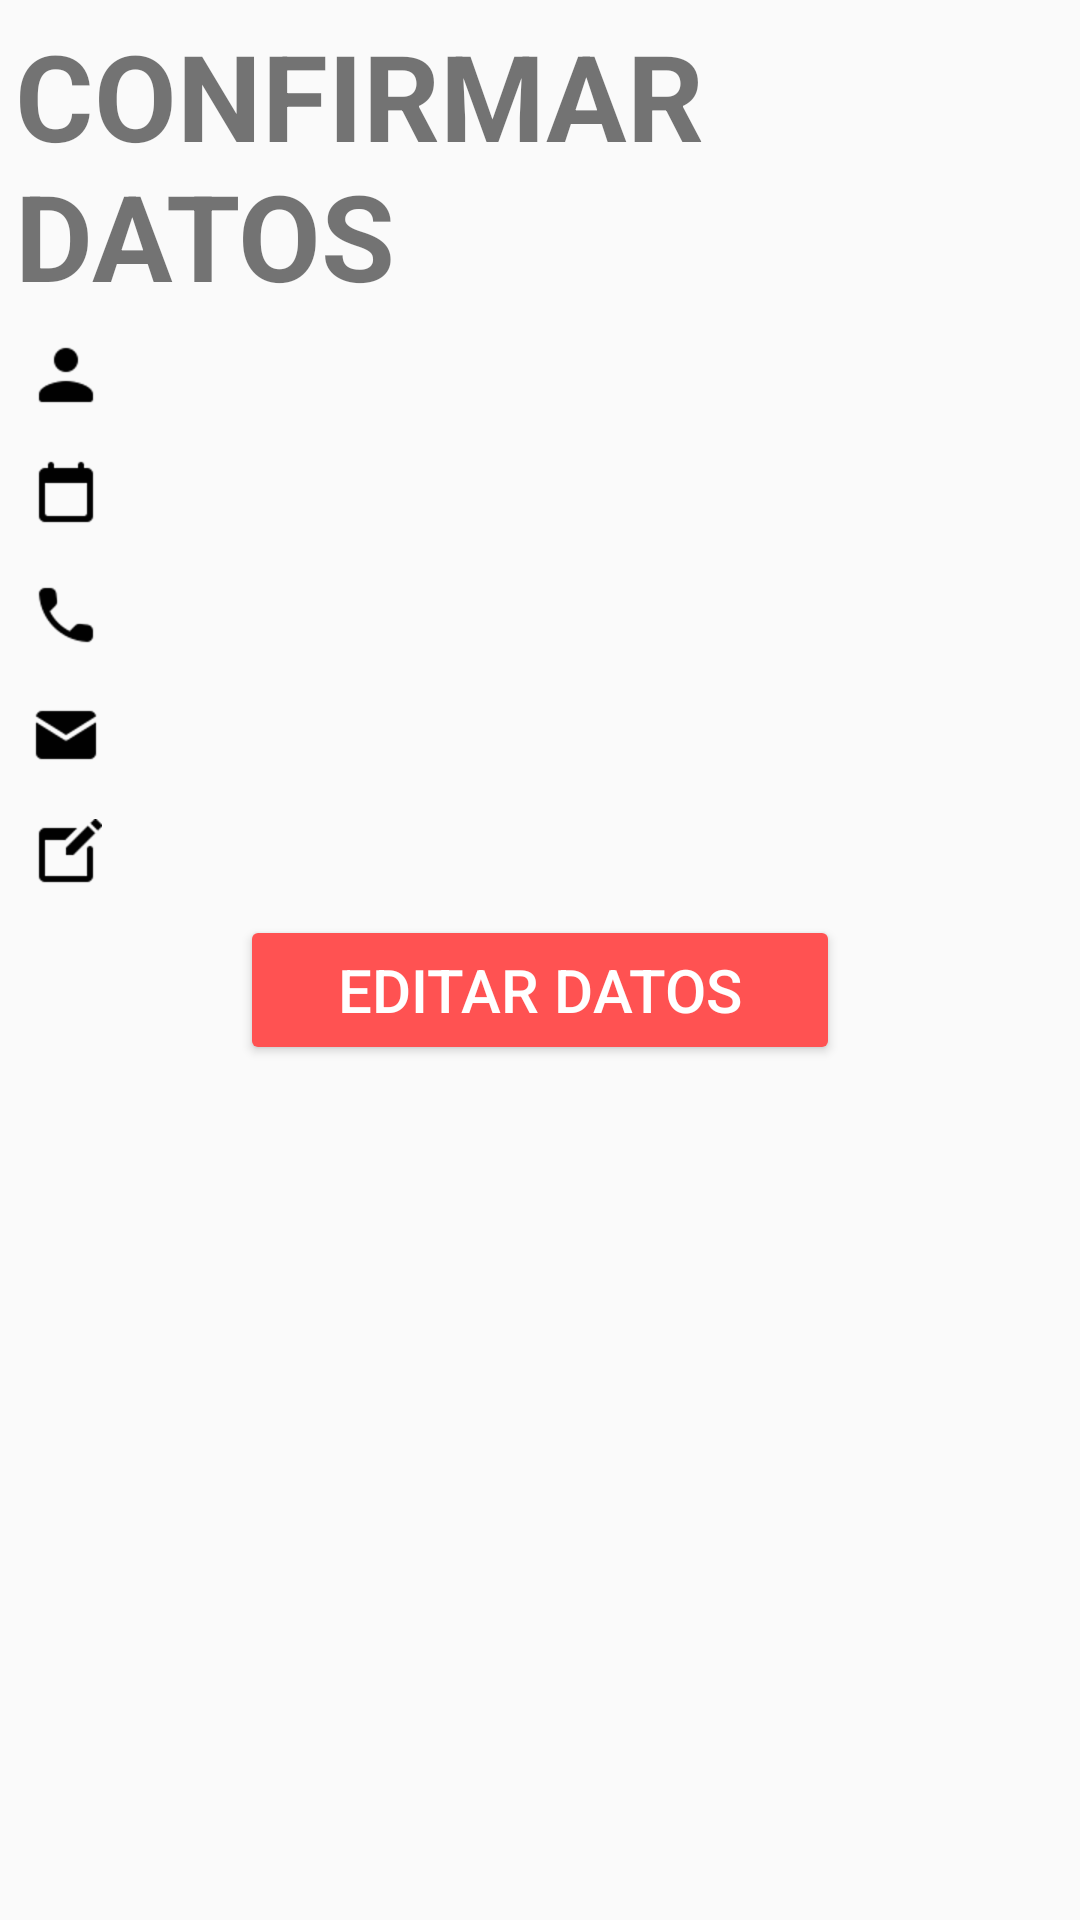

Icon click points for this 1080×1920 phone screenshot, format point (x, y):
calendar: point (66, 492)
create: point (70, 851)
phone: point (66, 615)
user: point (66, 375)
